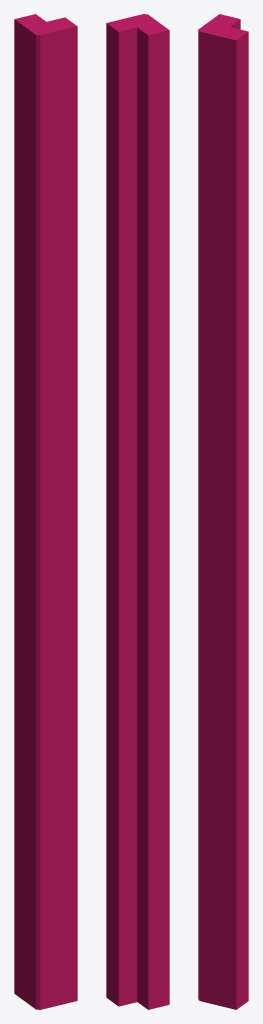
The model's file is ph-support2.glb.
The picture shows the model from 3 angles, left to right: view 1: azimuth 30°, elevation 25°; view 2: azimuth 210°, elevation 25°; view 3: azimuth 330°, elevation 25°; orthographic projection.
Bounding box in the file's own units: 0.3952 × 9.21 × 0.3952.
